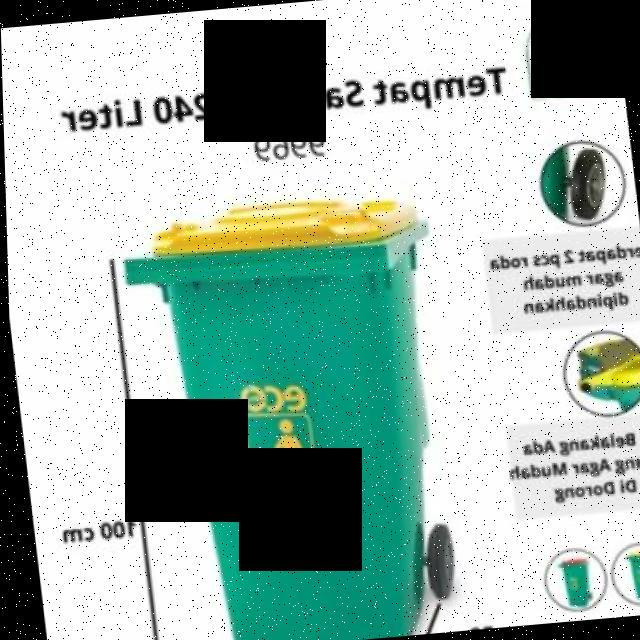bin: (114, 184, 478, 640)
